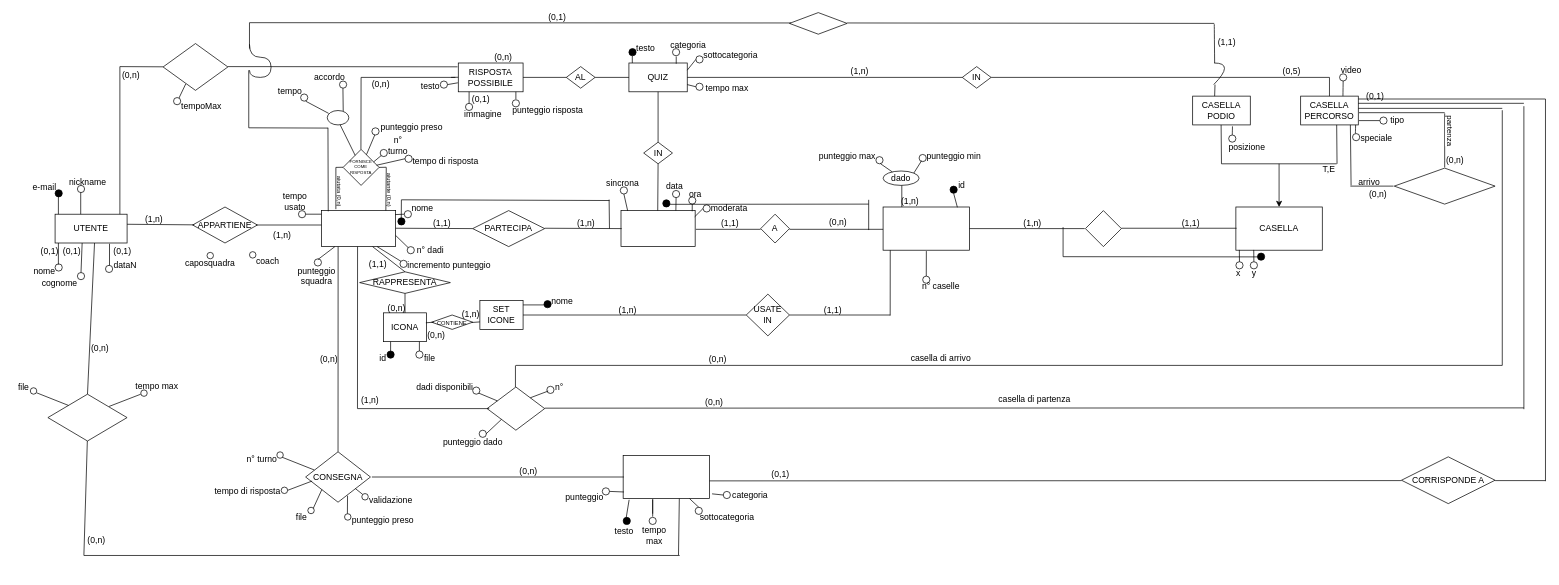
This 1559x585 diagram has some shape labels left out. Each missing label, with the centre of its shape:
"aiuto" goes at point 338,117.
"CASELLA SPECIALE" goes at point 1444,185.
"CON" goes at point 1103,228.
"CONSEGNA UTENTE" goes at point 87,417.
"GIOCO" goes at point 925,228.
"RISPOSTA UTENTE" goes at point 195,66.
"SFIDA" goes at point 657,228.
"SQUADRA" goes at point 358,228.
"STA IN" goes at point 818,23.
"TASK" goes at point 666,477.
"TURNO" goes at point 515,408.
